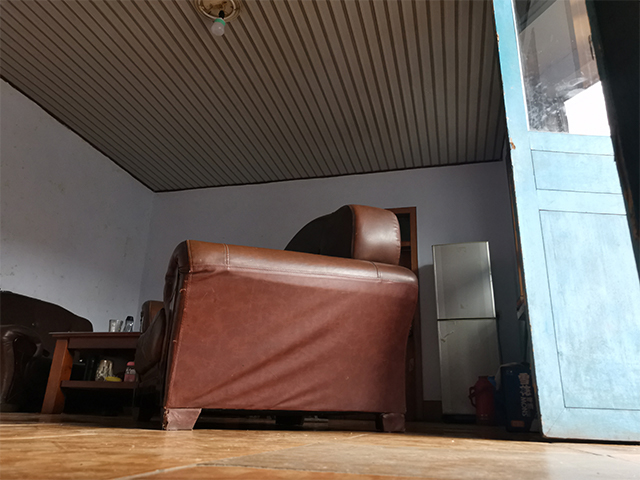sofa: (132, 202, 422, 433)
table: (37, 330, 144, 417)
